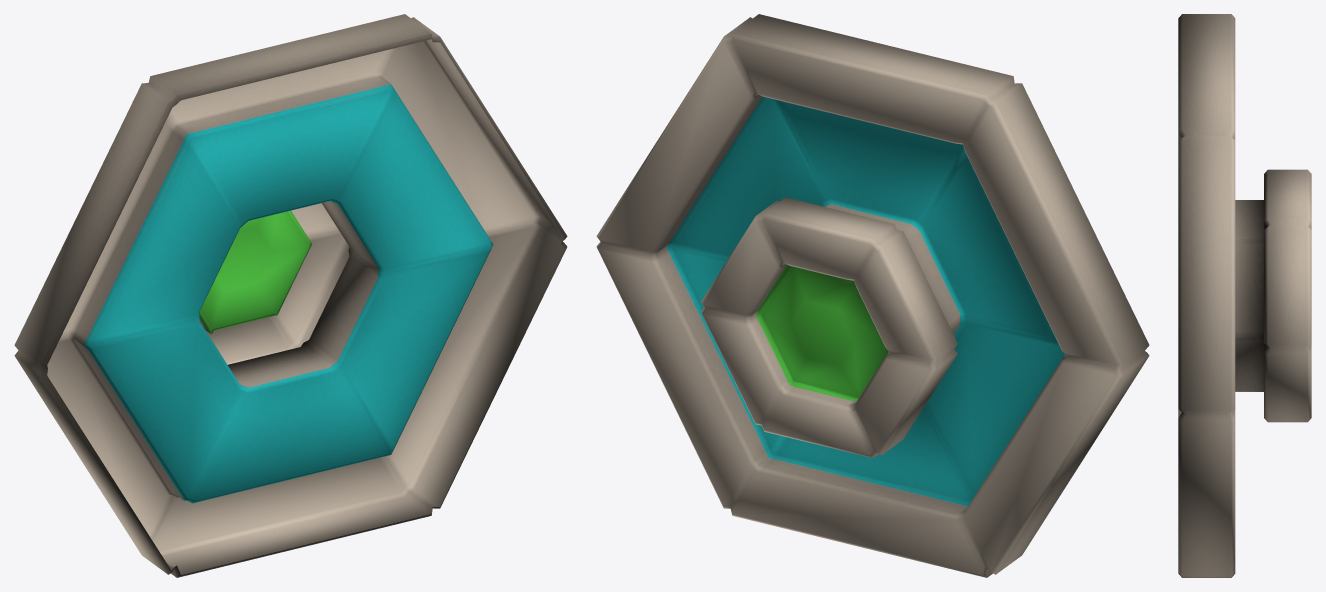
The model's file is fountain.fbx.
The picture shows the model from 3 angles, left to right: view 1: azimuth 30°, elevation 25°; view 2: azimuth 150°, elevation 25°; view 3: azimuth 270°, elevation 25°; orthographic projection. The views are drawn at different scales.
Visible parts, largest first — view 1: fountain; view 2: fountain; view 3: fountain.
Part boxes in pixels (x1,y1,x2,y2): fountain: (14, 14, 567, 577); fountain: (596, 14, 1149, 577); fountain: (1178, 14, 1311, 577).
Size of the model in its own units: 59360 by 51962 by 14000.
